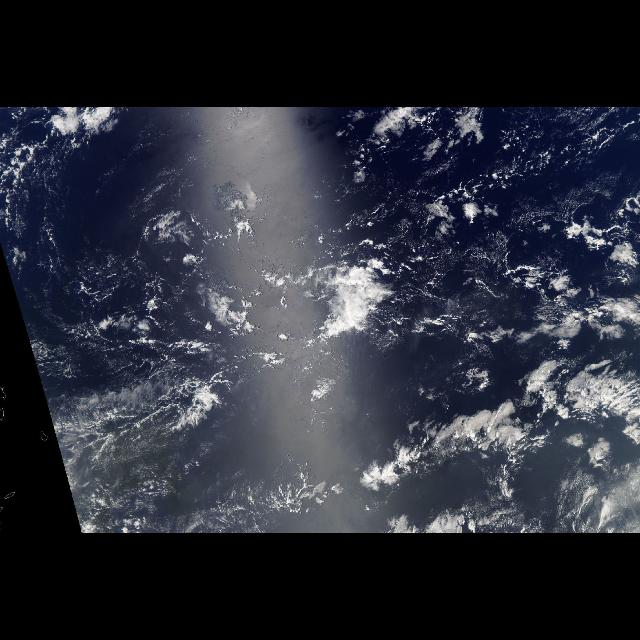Fish: (338, 356, 640, 490)
Gravel: (62, 219, 640, 345)
Sugar: (66, 449, 262, 527)
